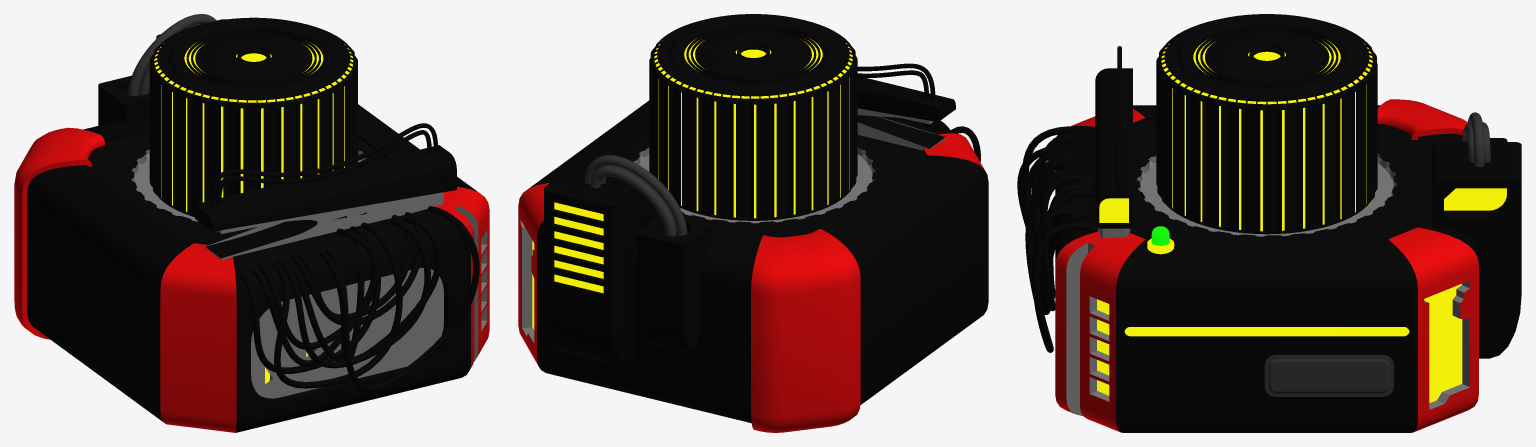
Rendered from SawBlade Launcher.fbx.
3 renders of one model, left to right at view 1: azimuth 30°, elevation 25°; view 2: azimuth 150°, elevation 25°; view 3: azimuth 270°, elevation 25°, orthographic. The views are drawn at different scales.
Parts seen in each view (by area): view 1: Cube.004, Cutter.002, Cable Mass, Cube.005, Cube_Plate, Curve.001, Cube.002, Curve; view 2: Cube.004, Cutter.002, Cube_Plate, Cube.001, Cube.002, Cube.005, Curve, Curve.001, Cable Mass; view 3: Cube.004, Cutter.002, Cube.001, Cable Mass, Cube.005, Cube.003, Cube_Plate, Curve, Curve.001, Cylinder.
Boxes of the visible parts, x1,y1,x2,y2 form: Cube.004: (27, 104, 489, 432); Cutter.002: (149, 17, 357, 216); Cable Mass: (237, 206, 479, 391); Cube.005: (195, 145, 456, 260); Cube_Plate: (14, 127, 104, 339); Curve.001: (210, 123, 438, 207); Cube.002: (98, 75, 149, 125); Curve: (127, 14, 216, 95); Cube.004: (518, 100, 988, 423); Cutter.002: (649, 14, 857, 220); Cube_Plate: (751, 229, 860, 432); Cube.001: (544, 161, 656, 365); Cube.002: (637, 216, 713, 352); Cube.005: (857, 78, 955, 150); Curve: (585, 155, 686, 236); Curve.001: (857, 63, 935, 101); Cable Mass: (891, 117, 980, 161); Cube.004: (1055, 105, 1478, 432); Cutter.002: (1156, 14, 1377, 234); Cube.001: (1432, 142, 1521, 358); Cable Mass: (1017, 126, 1095, 352); Cube.005: (1095, 68, 1132, 238); Cube.003: (1264, 355, 1393, 396); Cube_Plate: (1377, 99, 1467, 139); Curve: (1462, 112, 1490, 166); Curve.001: (1116, 46, 1121, 190); Cylinder: (1147, 226, 1174, 254).
Size of the model in its own units: 412 by 345 by 504.
